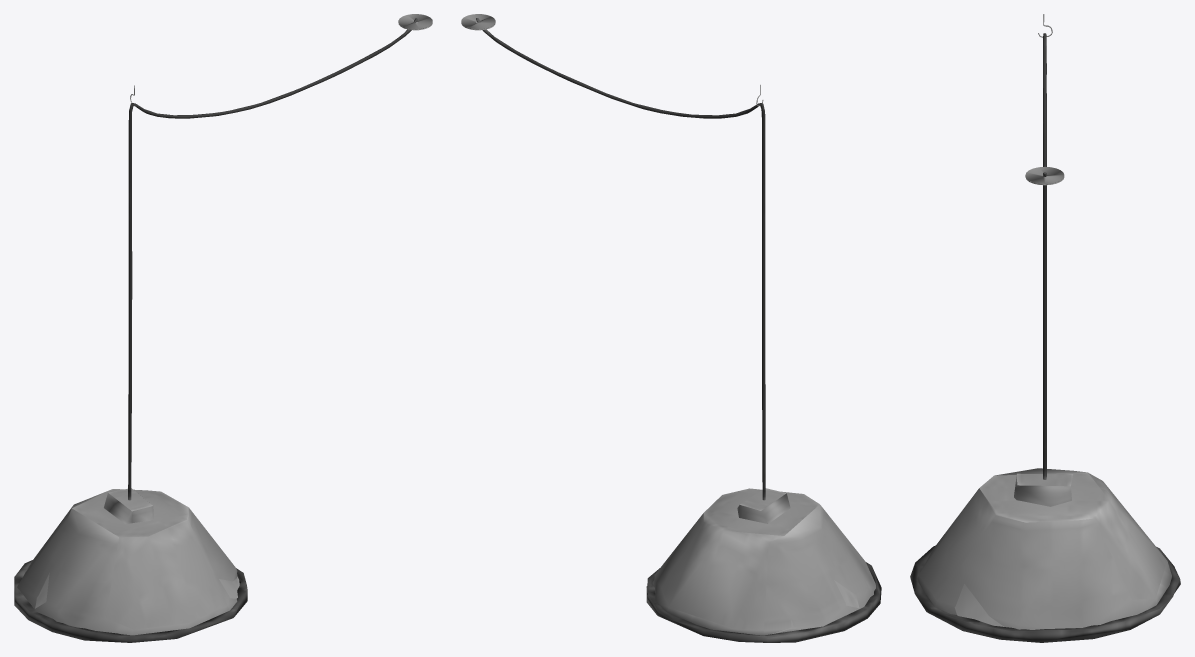
File: industrial_lamp.glb
3 views of the same model, side by side, from view 1: azimuth 30°, elevation 25°; view 2: azimuth 150°, elevation 25°; view 3: azimuth 270°, elevation 25° (orthographic). The views are drawn at different scales.
Parts seen in each view (by area): view 1: industrial_lamp; view 2: industrial_lamp; view 3: industrial_lamp.
Boxes of the visible parts, bbox=[...] form: industrial_lamp: bbox=[14, 14, 432, 642]; industrial_lamp: bbox=[461, 14, 881, 642]; industrial_lamp: bbox=[910, 14, 1180, 642].
Bounding box in the file's own units: 0.4556 × 0.5488 × 0.2345.
5 materials, 4 textured.
